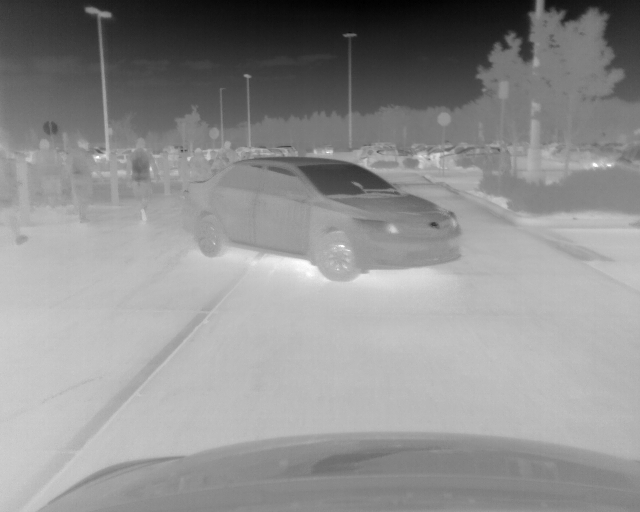car: (185, 157, 462, 281), (441, 147, 510, 168), (366, 149, 429, 168), (314, 145, 333, 154)
people: (68, 139, 100, 223), (1, 149, 27, 247), (33, 139, 65, 210), (126, 138, 146, 224), (191, 146, 206, 182), (179, 150, 190, 197), (222, 141, 234, 165), (209, 147, 217, 170)
